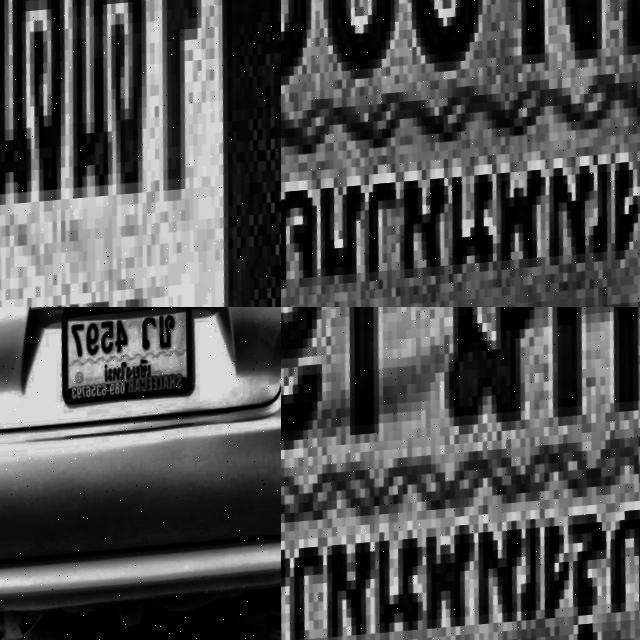license-plate: (281, 307, 640, 640), (281, 0, 640, 307), (0, 0, 281, 307), (54, 307, 209, 410)
